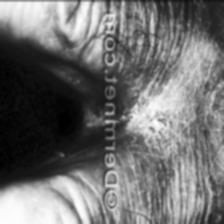Toxin: (122, 83, 176, 158)
